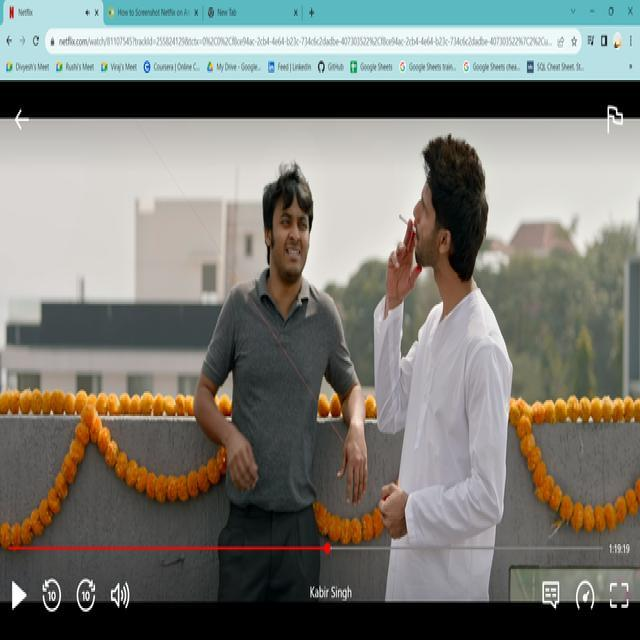smoking: (398, 200, 428, 243)
